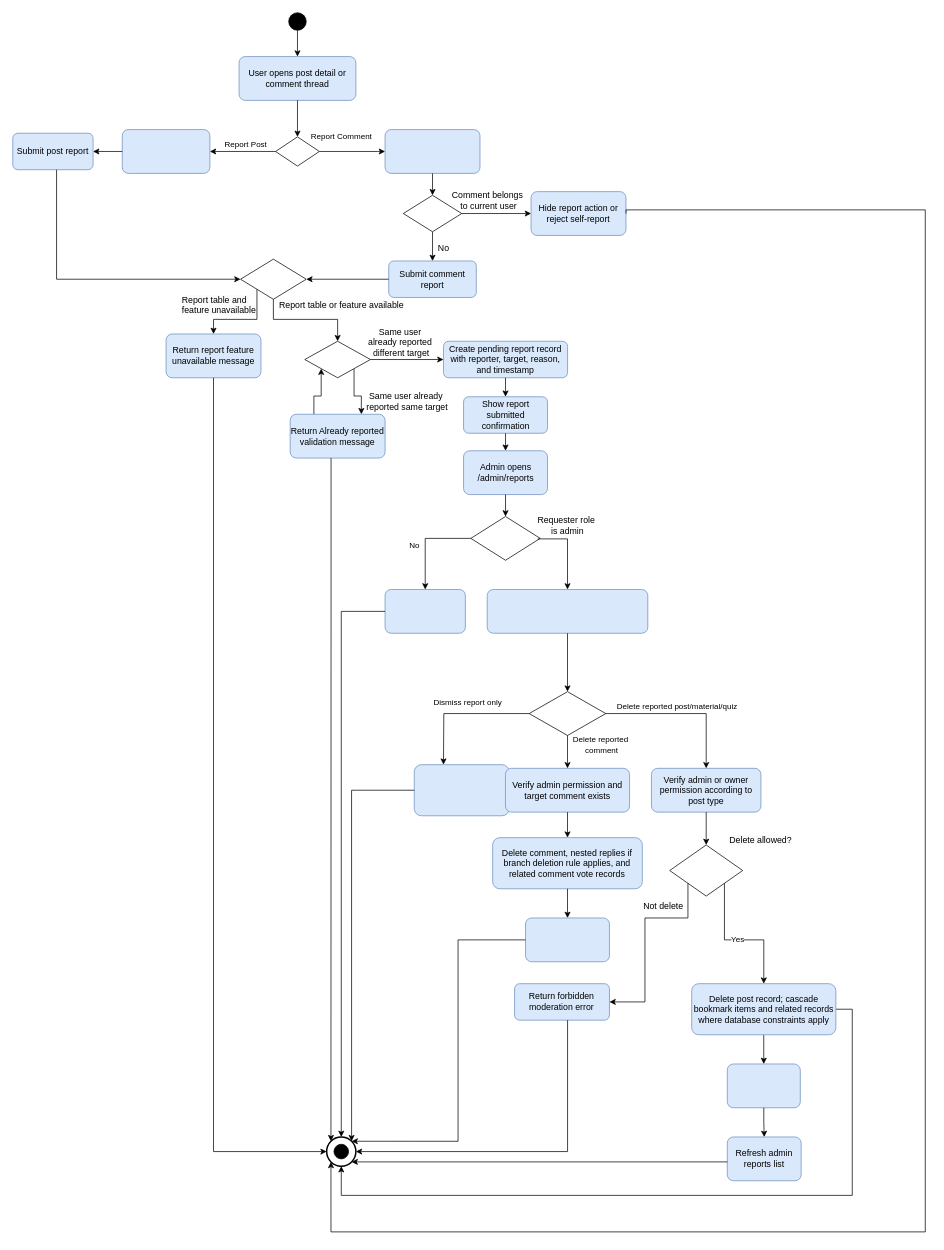
Image size: 944x1250. Some labels were removed from this diagram. Here are the shapes that lost their labels. From the top down, the box of each, then its label:
(122, 129, 210, 173): User clicks report post and selects reason
(384, 129, 480, 173): User clicks report comment
(384, 589, 465, 633): Return 403 or redirect guest to login
(486, 589, 648, 633): Load report list with reporter, target content, author, reason, and created date
(414, 764, 509, 816): Delete report record and keep original content
(525, 917, 609, 962): Delete or close related report records
(727, 1063, 800, 1108): Remove report records for deleted target
